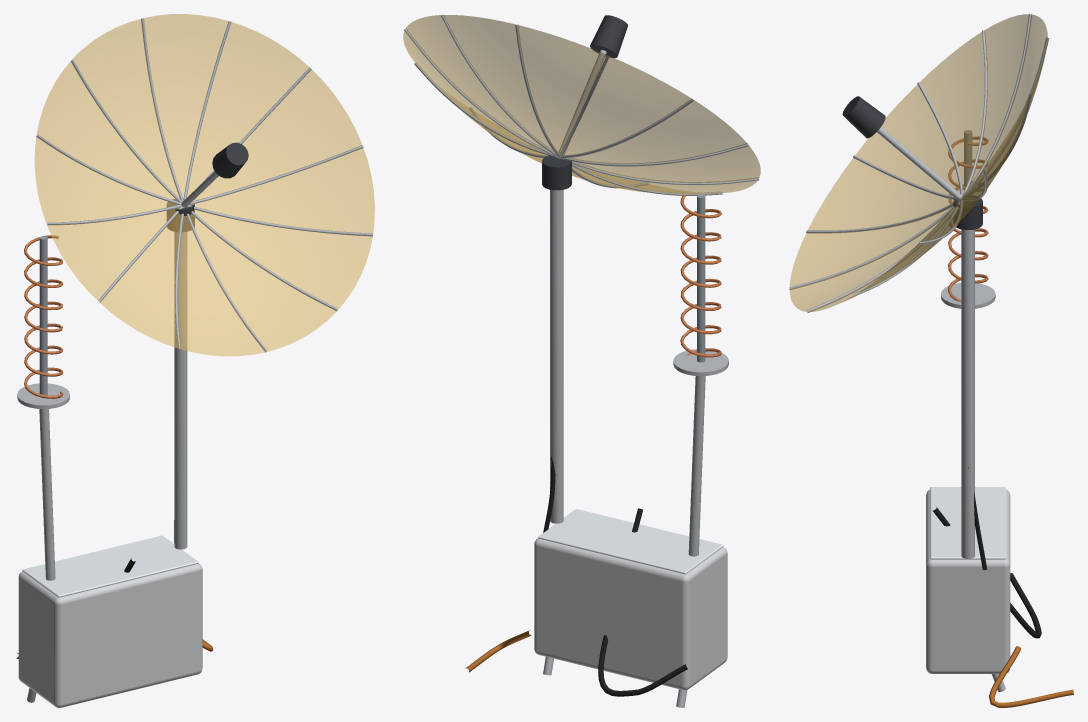
The model's file is lrv-antenna.glb.
3 views of the same model, side by side, from view 1: azimuth 30°, elevation 25°; view 2: azimuth 150°, elevation 25°; view 3: azimuth 270°, elevation 25° (orthographic). The views are drawn at different scales.
Parts seen in each view (by area): view 1: REFLECTOR_Malla_dorada_de_antena, TRANSCEIVER_Mylar_aluminizado, REFLECTOR, TRANSCEIVER, ANTENNA_GIMBAL_Aluminio_satinado, LOW_GAIN_ANTENNA, LOW_GAIN_ANTENNA_Aluminio_satinado, ANTENNA_GIMBAL; view 2: REFLECTOR_Malla_dorada_de_antena, TRANSCEIVER_Mylar_aluminizado, REFLECTOR, TRANSCEIVER, ANTENNA_GIMBAL_Aluminio_satinado, LOW_GAIN_ANTENNA, LOW_GAIN_ANTENNA_Aluminio_satinado, RF_CABLING_Cable_negro, ANTENNA_GIMBAL; view 3: REFLECTOR_Malla_dorada_de_antena, TRANSCEIVER_Mylar_aluminizado, REFLECTOR, ANTENNA_GIMBAL_Aluminio_satinado, TRANSCEIVER, LOW_GAIN_ANTENNA, RF_CABLING_Cable_negro, RF_CABLING, LOW_GAIN_ANTENNA_Aluminio_satinado, ANTENNA_GIMBAL.
Boxes of the visible parts, x1,y1,x2,y2 form: REFLECTOR_Malla_dorada_de_antena: [34, 14, 374, 356]; TRANSCEIVER_Mylar_aluminizado: [18, 563, 202, 707]; REFLECTOR: [36, 18, 372, 352]; TRANSCEIVER: [22, 535, 198, 702]; ANTENNA_GIMBAL_Aluminio_satinado: [174, 232, 187, 549]; LOW_GAIN_ANTENNA: [24, 235, 63, 398]; LOW_GAIN_ANTENNA_Aluminio_satinado: [17, 383, 69, 580]; ANTENNA_GIMBAL: [166, 198, 194, 232]; REFLECTOR_Malla_dorada_de_antena: [403, 15, 760, 194]; TRANSCEIVER_Mylar_aluminizado: [534, 538, 727, 690]; REFLECTOR: [404, 14, 758, 195]; TRANSCEIVER: [538, 509, 723, 707]; ANTENNA_GIMBAL_Aluminio_satinado: [550, 189, 563, 523]; LOW_GAIN_ANTENNA: [680, 194, 721, 362]; LOW_GAIN_ANTENNA_Aluminio_satinado: [673, 349, 728, 556]; RF_CABLING_Cable_negro: [543, 456, 687, 696]; ANTENNA_GIMBAL: [542, 155, 571, 190]; REFLECTOR_Malla_dorada_de_antena: [789, 14, 1047, 311]; TRANSCEIVER_Mylar_aluminizado: [926, 489, 1010, 673]; REFLECTOR: [789, 14, 1049, 312]; ANTENNA_GIMBAL_Aluminio_satinado: [961, 229, 974, 558]; TRANSCEIVER: [930, 487, 1005, 691]; LOW_GAIN_ANTENNA: [948, 130, 988, 301]; RF_CABLING_Cable_negro: [933, 467, 1041, 638]; RF_CABLING: [989, 646, 1073, 707]; LOW_GAIN_ANTENNA_Aluminio_satinado: [941, 283, 995, 308]; ANTENNA_GIMBAL: [953, 195, 982, 229].
Bounding box in the file's own units: 0.9069 × 1.72 × 0.6764.
